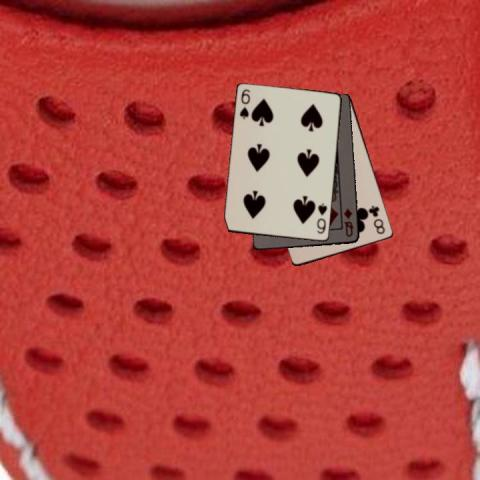6s: (314, 200, 329, 235), (237, 87, 251, 120)
8c: (366, 203, 387, 236)
Qd: (342, 205, 356, 239)
